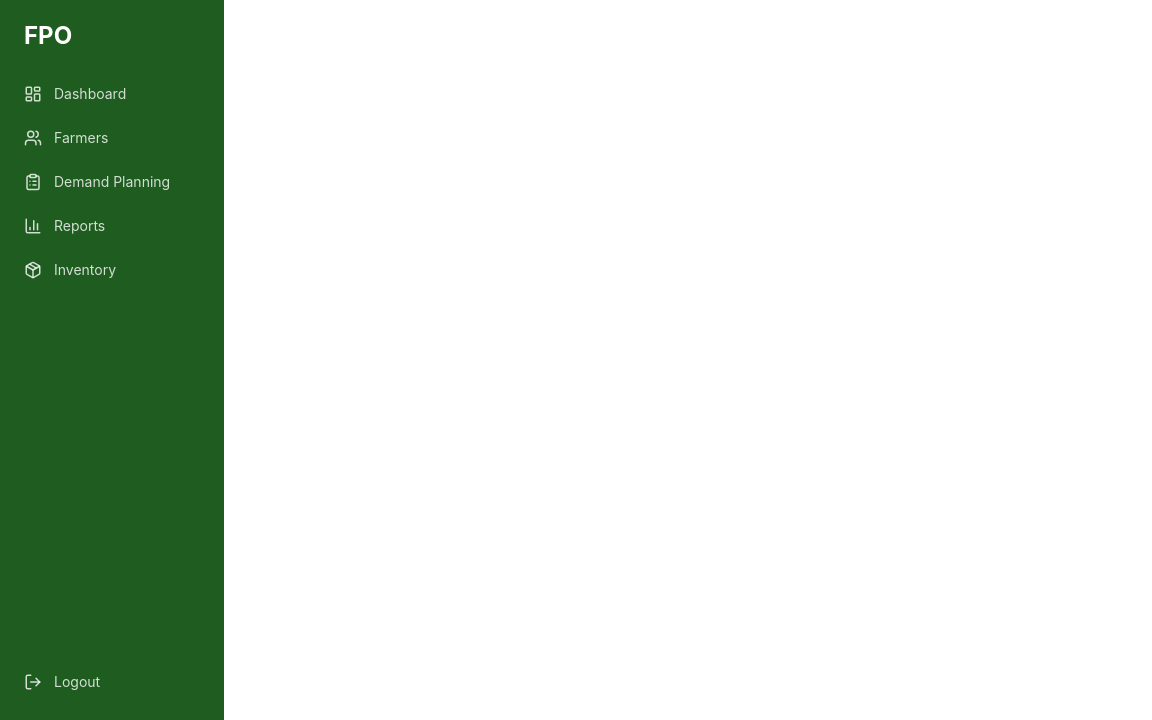
Test: Sidebar › closes modal when Cancel is clicked
Click the button "Logout": (112, 682) [0,660,224,704]
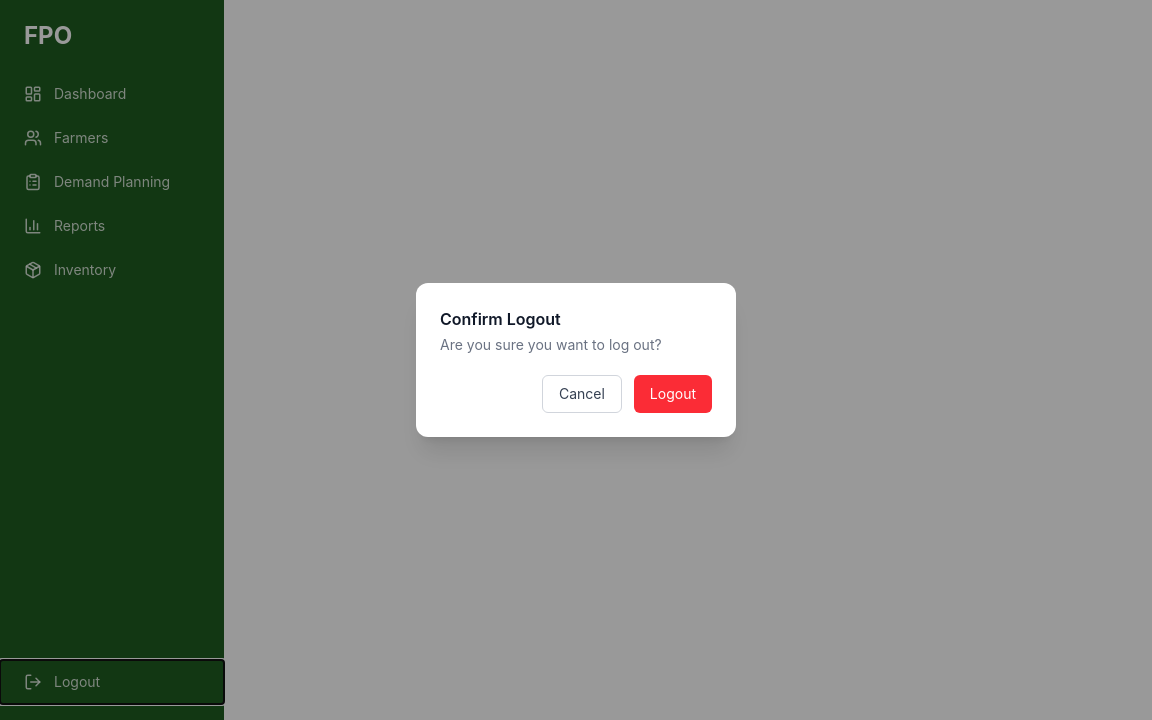
Click the button "Cancel": (582, 394) [542,375,622,413]
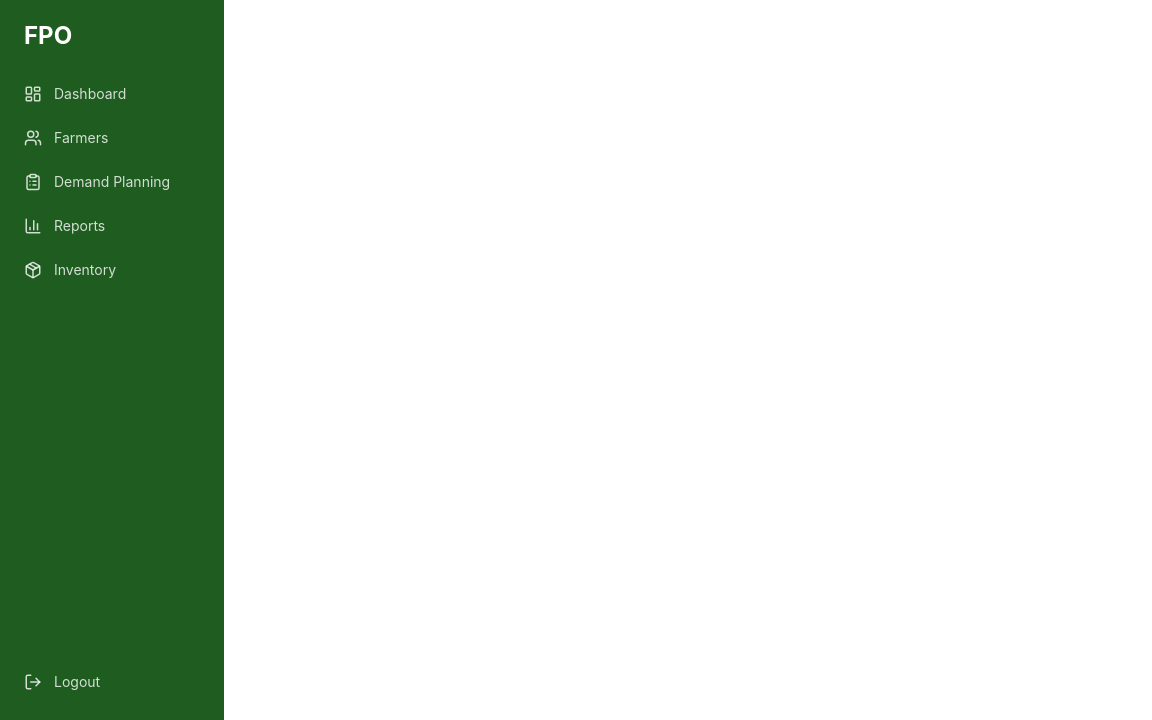
Result: the heading "Confirm Logout" is gone
